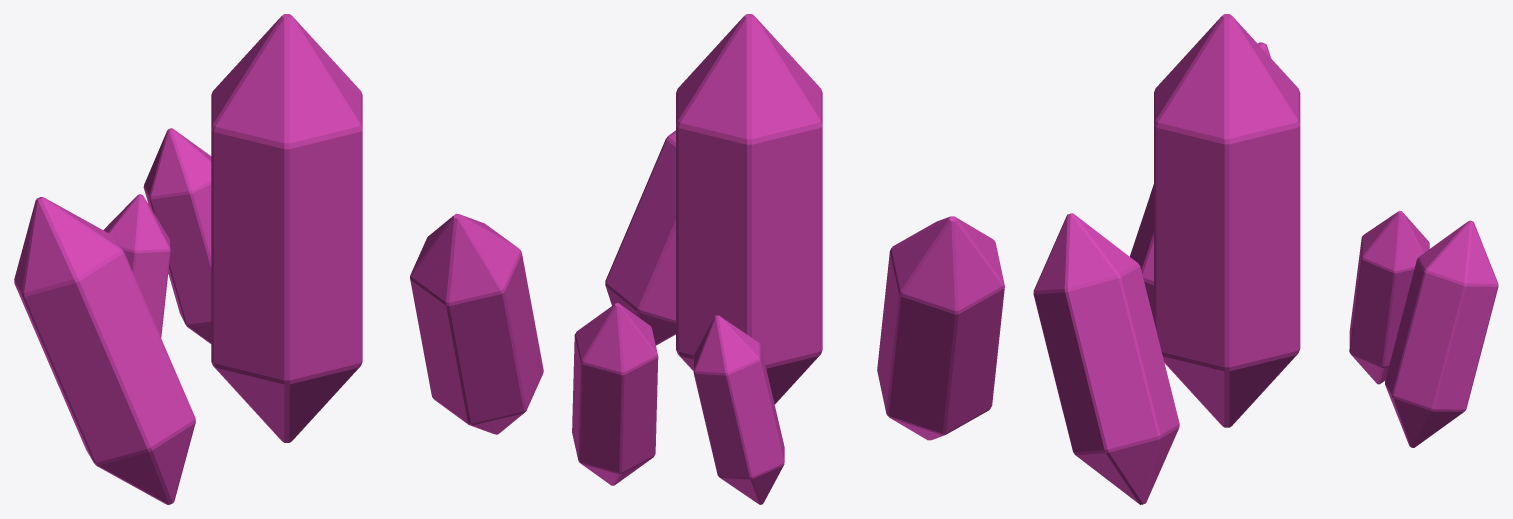
File: nat_crystal_cluster_2.glb
3 views of the same model, side by side, from view 1: azimuth 30°, elevation 25°; view 2: azimuth 150°, elevation 25°; view 3: azimuth 270°, elevation 25° (orthographic). The views are drawn at different scales.
Parts seen in each view (by area): view 1: nat_crystal_cluster_2; view 2: nat_crystal_cluster_2; view 3: nat_crystal_cluster_2.
Part boxes in pixels (left/top/right/bottom): nat_crystal_cluster_2: left=14, top=14, right=543, bottom=504; nat_crystal_cluster_2: left=572, top=14, right=1004, bottom=504; nat_crystal_cluster_2: left=1033, top=14, right=1498, bottom=504.
Bounding box in the file's own units: 2.47 × 2.2 × 2.26.
